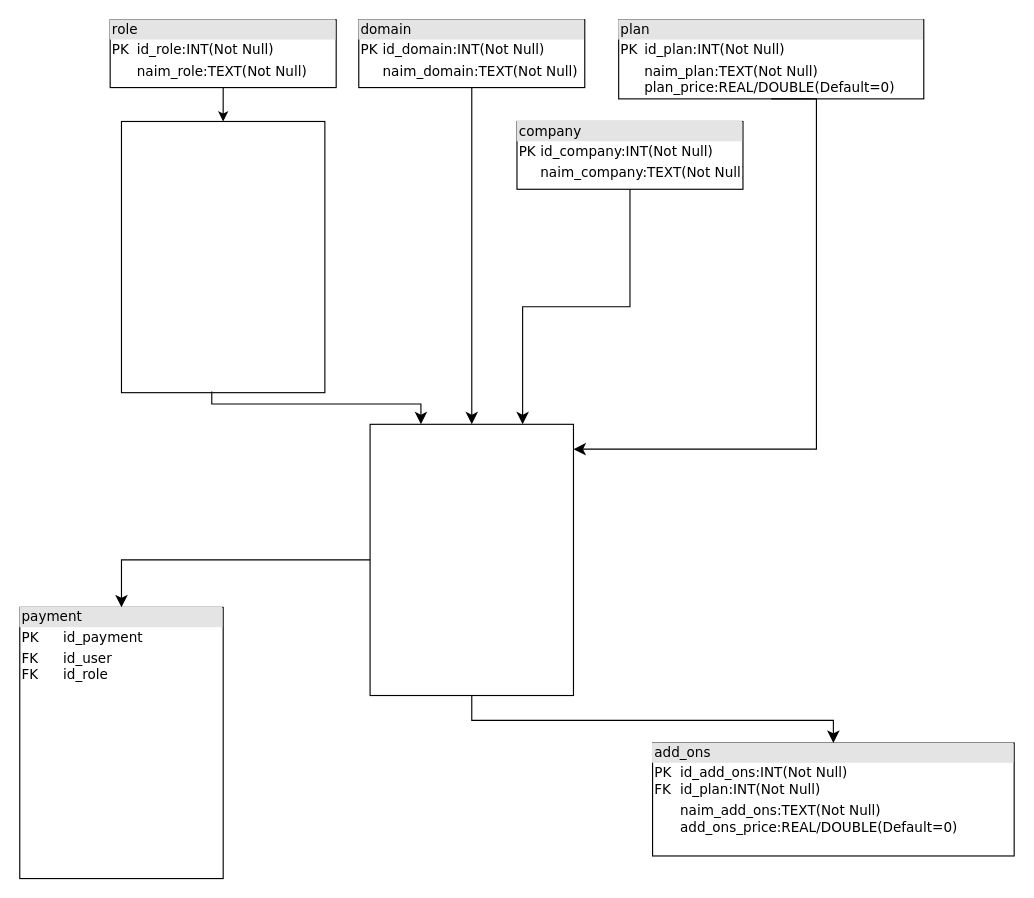
Image size: 1034x898. Some labels were removed from this diagram. Here are the shapes that lost their labels. From the top down, the box of each, then its label:
(120, 120, 325, 393): site_user PK FK id_site_user id_role user_email user_password
(369, 423, 573, 696): client_zone PK id_client_zone FK FK FK FK id_user id_role id_domain id_company
